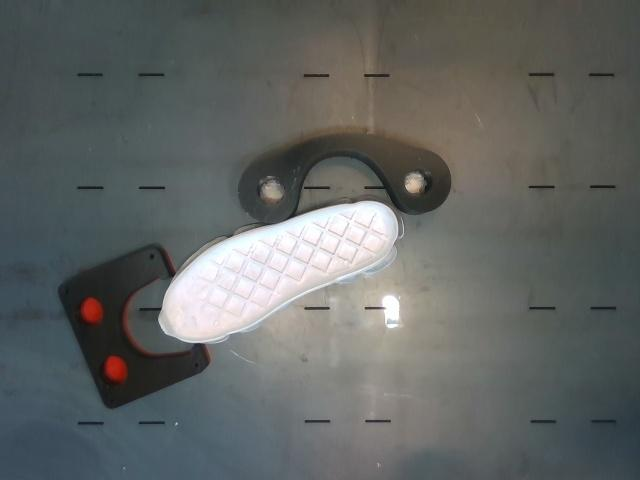shoes: (159, 202, 398, 342)
